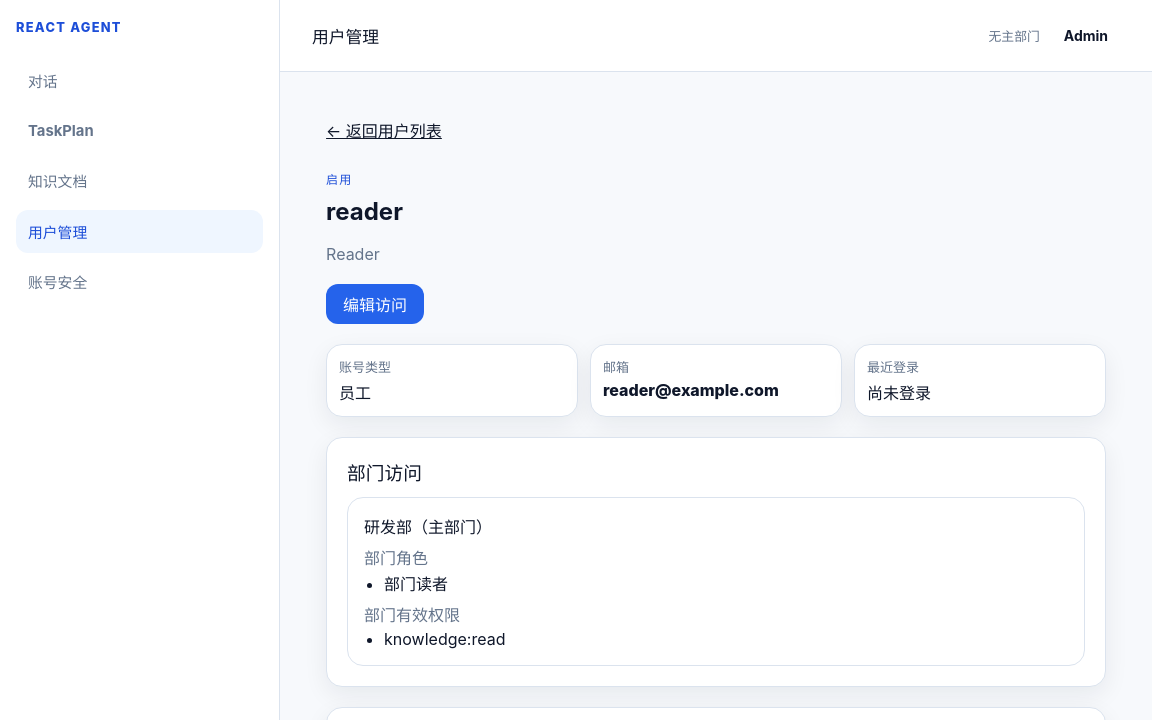
it: User Management access editor › maps safe access 422 fields without rendering the raw message
Click the button "编辑访问": (375, 304) [326,284,424,324]
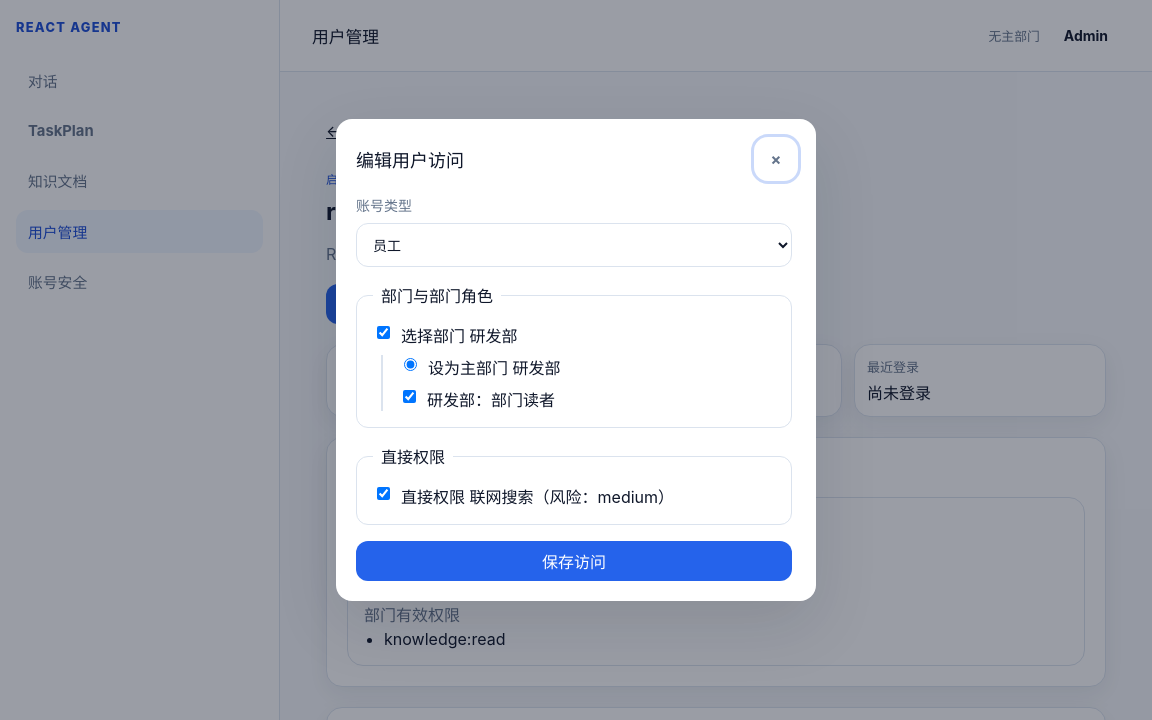
Click the checkbox labelled "直接权限 联网搜索": (384, 494) [377,487,390,500]
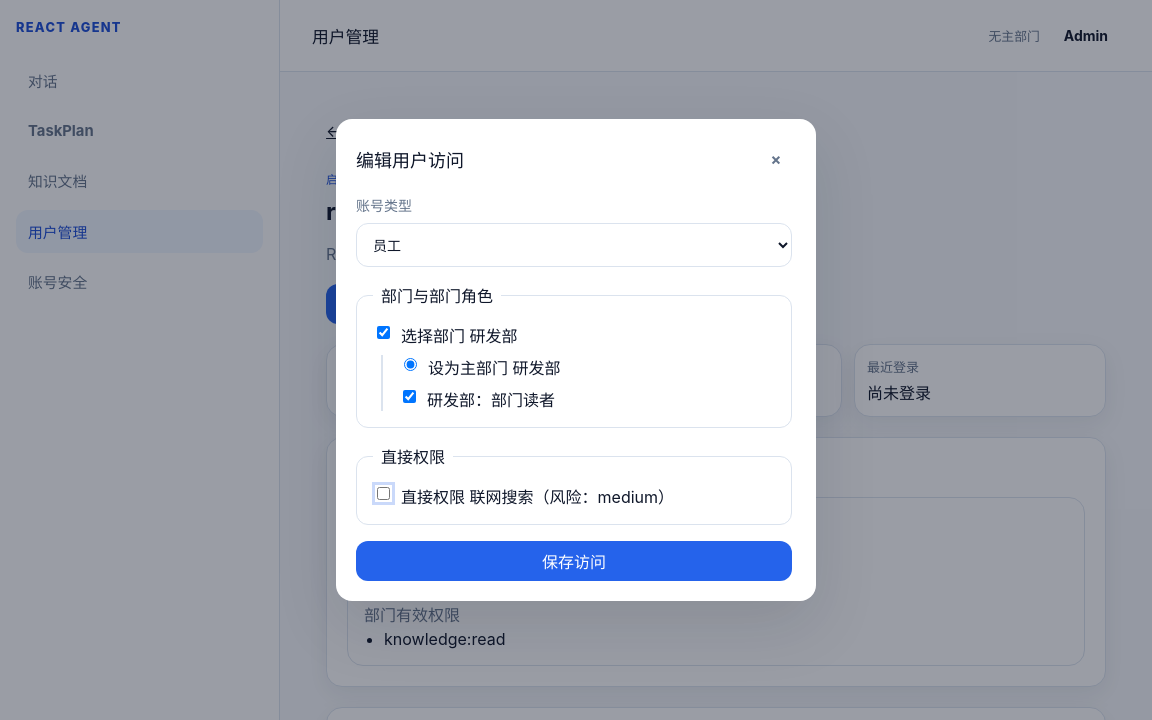
Click the button "保存访问": (574, 561) [356,541,792,581]
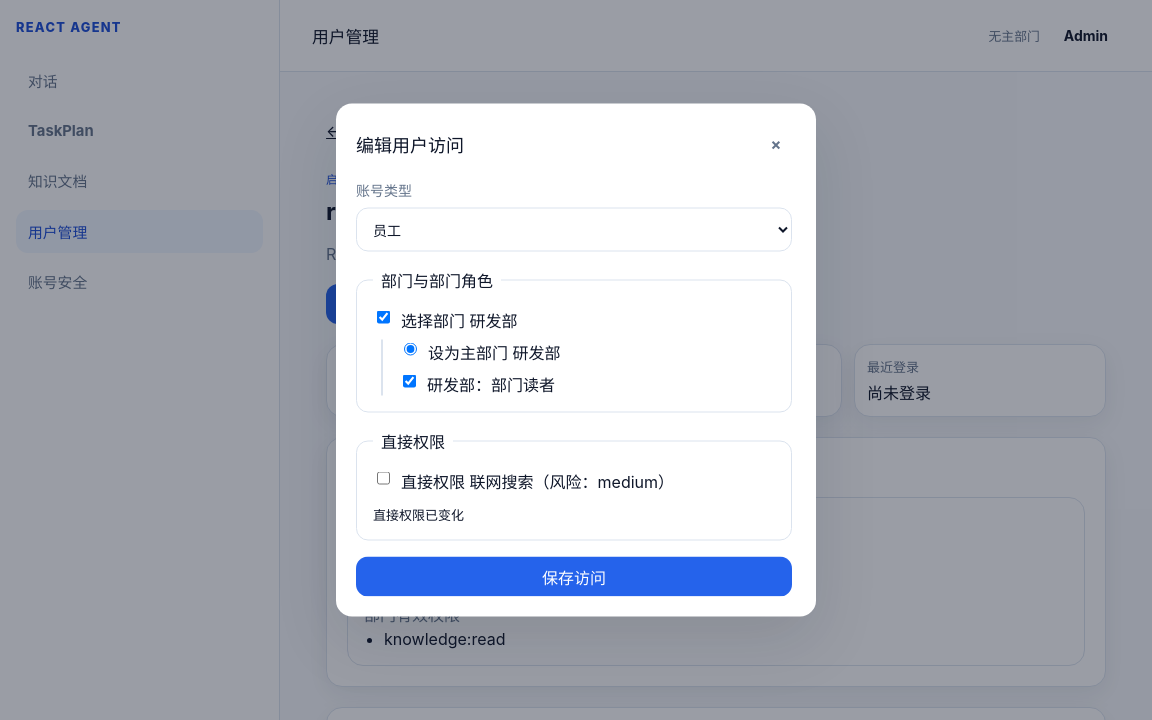
Expected: the text "直接权限已变化" is shown, [373,506,464,522]
